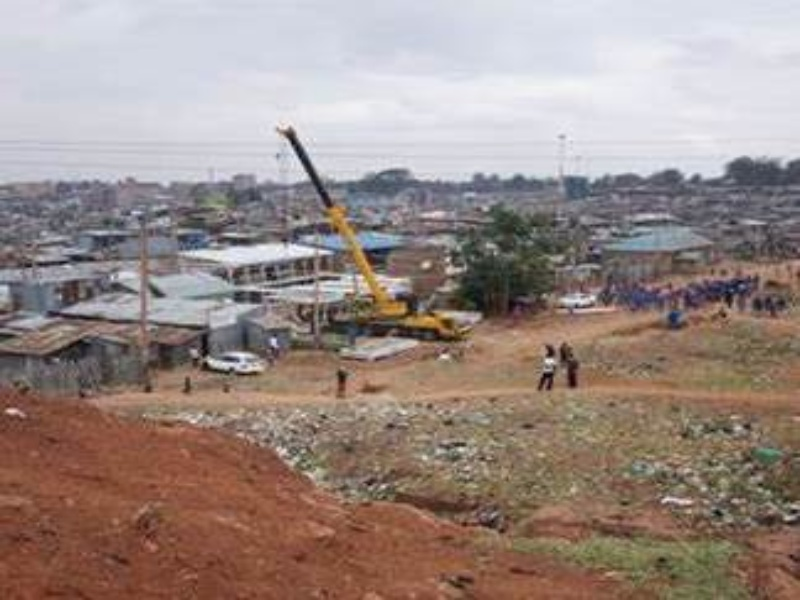crane: (268, 122, 475, 348)
vehicle: (200, 349, 265, 379)
